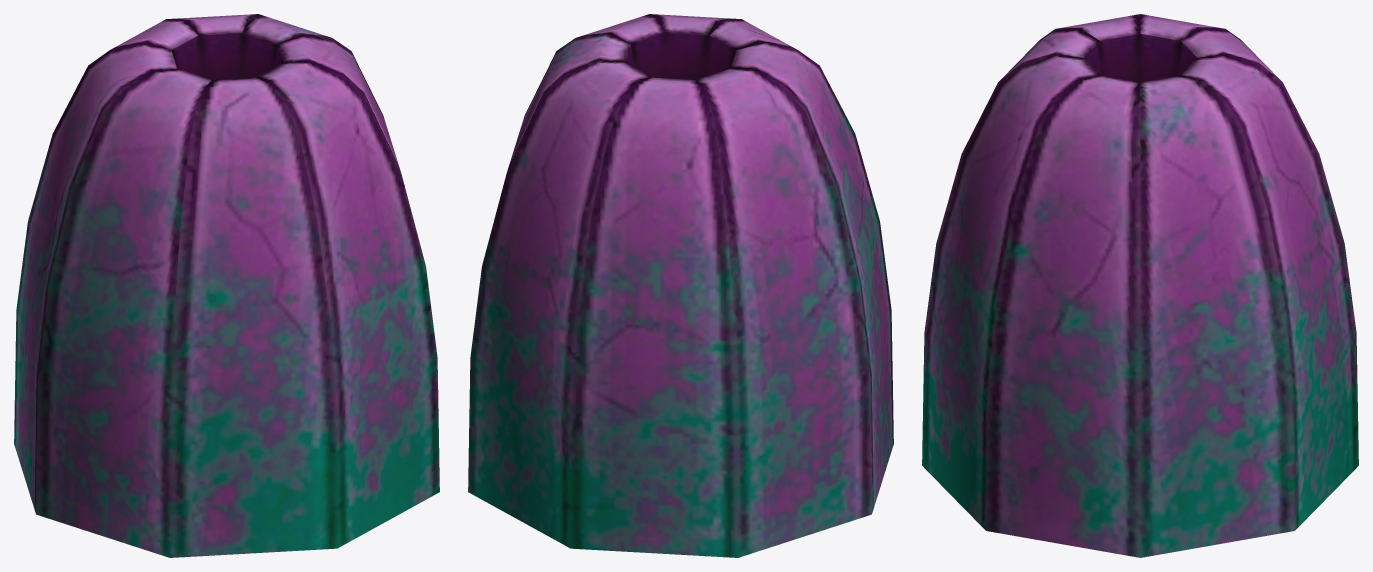
The model's file is gourd_2.obj.
3 views of the same model, side by side, from view 1: azimuth 30°, elevation 25°; view 2: azimuth 150°, elevation 25°; view 3: azimuth 270°, elevation 25° (orthographic).
Visible parts, largest first — view 1: smd_mesh.001_gon_gourd.001_0; view 2: smd_mesh.001_gon_gourd.001_0; view 3: smd_mesh.001_gon_gourd.001_0.
Boxes of the visible parts, x1,y1,x2,y2 form: smd_mesh.001_gon_gourd.001_0: [14, 14, 439, 557]; smd_mesh.001_gon_gourd.001_0: [468, 14, 893, 557]; smd_mesh.001_gon_gourd.001_0: [922, 14, 1358, 557].
Size of the model in its own units: 2.57 by 2.67 by 2.57.
Materials: 1 (1 with a texture image).
